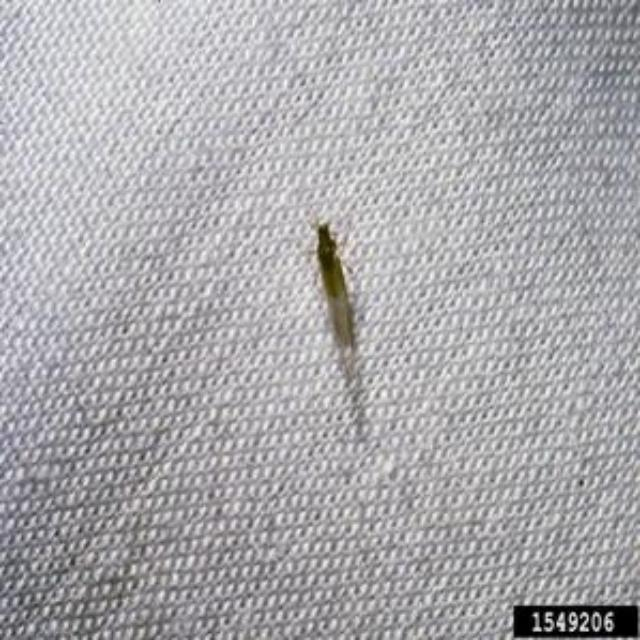Green peach aphid: (288, 202, 402, 372)
